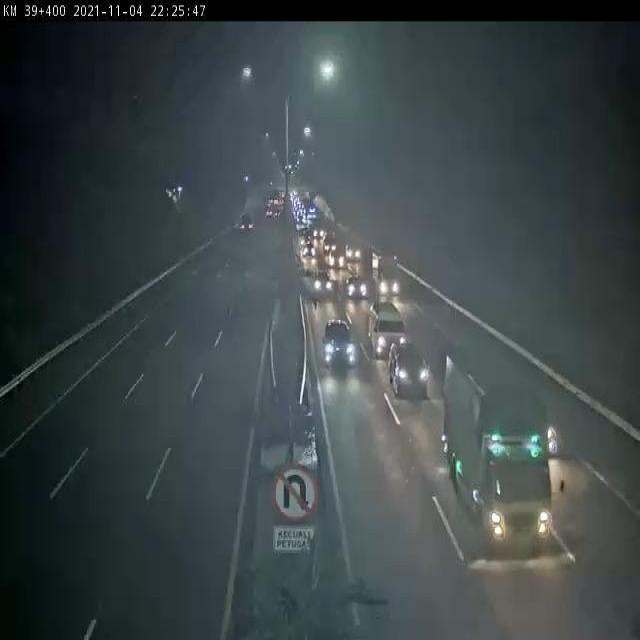car: (383, 330, 437, 410), (315, 311, 369, 385), (370, 302, 411, 358), (342, 272, 372, 305), (236, 206, 259, 246), (310, 268, 337, 300), (344, 236, 364, 264), (326, 250, 345, 274), (323, 231, 338, 252), (302, 241, 318, 259)
truck-m-: (439, 340, 554, 572)
truck-s-: (376, 249, 403, 299), (548, 398, 563, 466)
